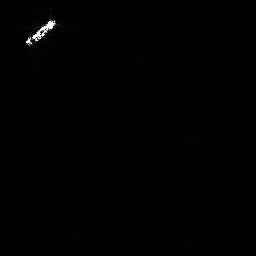ship: (22, 15, 58, 48)
